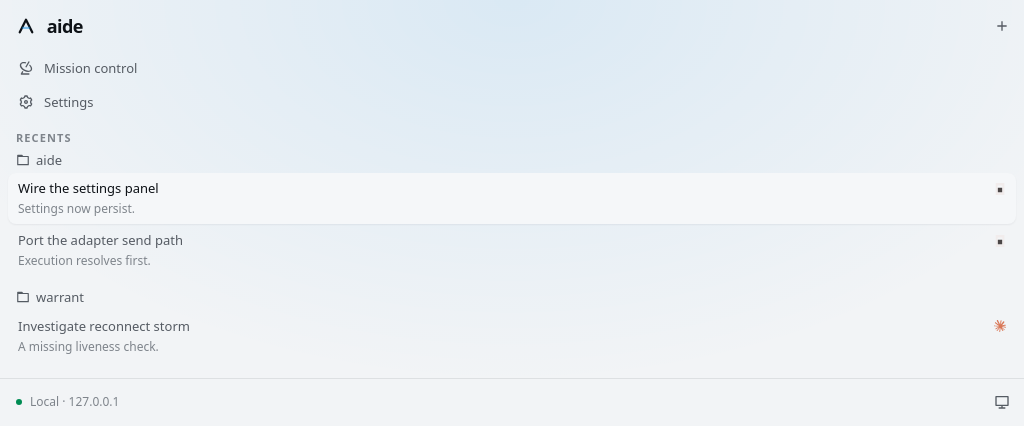
Test: Sidebar recents › labels the harness symbol and reveals the name in a tooltip
Hover over the picture named "Harness: ": coordinates (1000, 189) [994,183,1006,195]
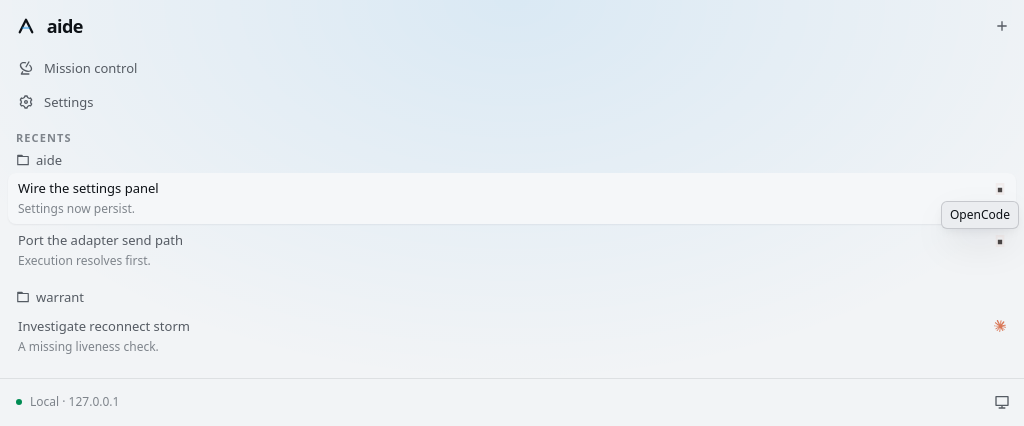
Expected: the text "OpenCode" is shown, [941,201,1019,229]
